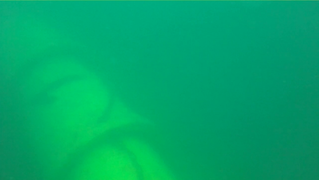1: (27, 72, 84, 107)
pipe: (1, 1, 178, 179)
